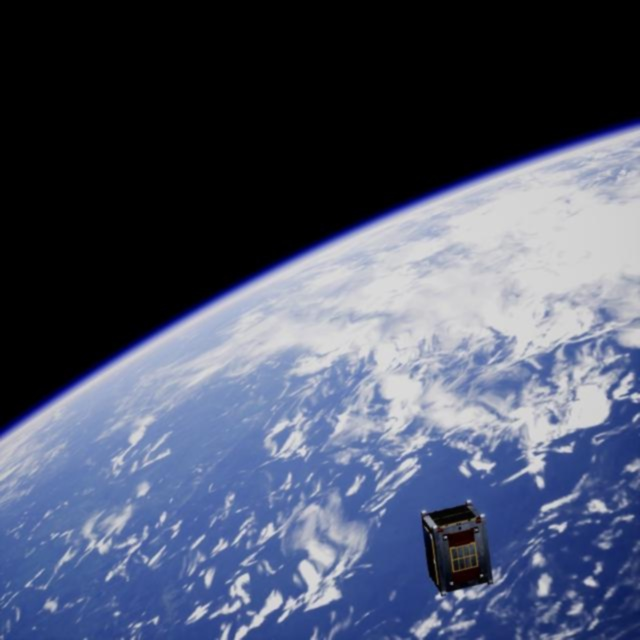medium_debris: (414, 496, 494, 592)
